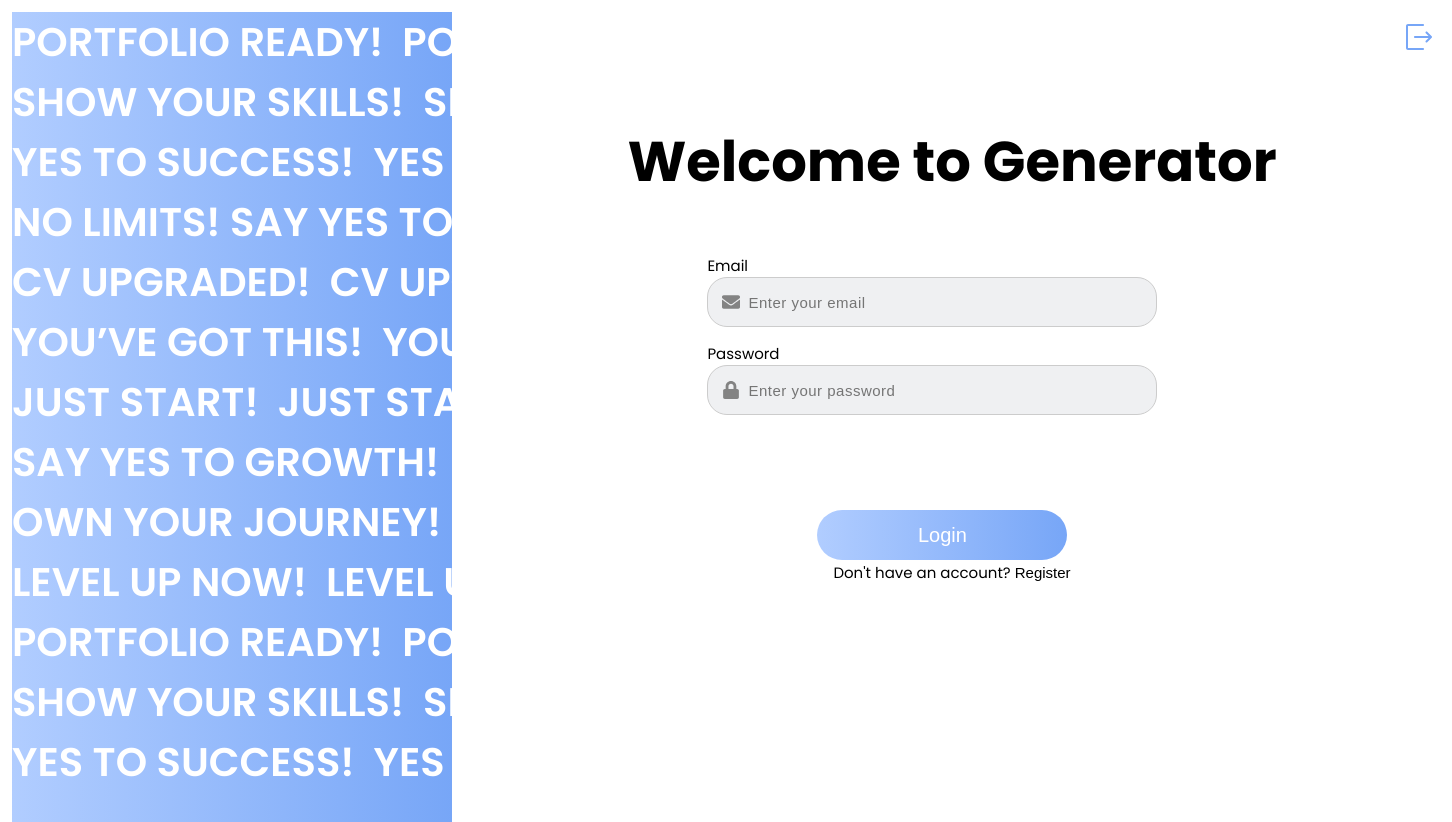
Test case: Компонент Login › Отображение ошибки при отсутствии ответа от сервера
// Заполняем поля и отправляем форму
Type "test@example.com" into the field with placeholder "Enter your email".
click(932, 302); type("test@example.com")  # box [707,277,1157,327]
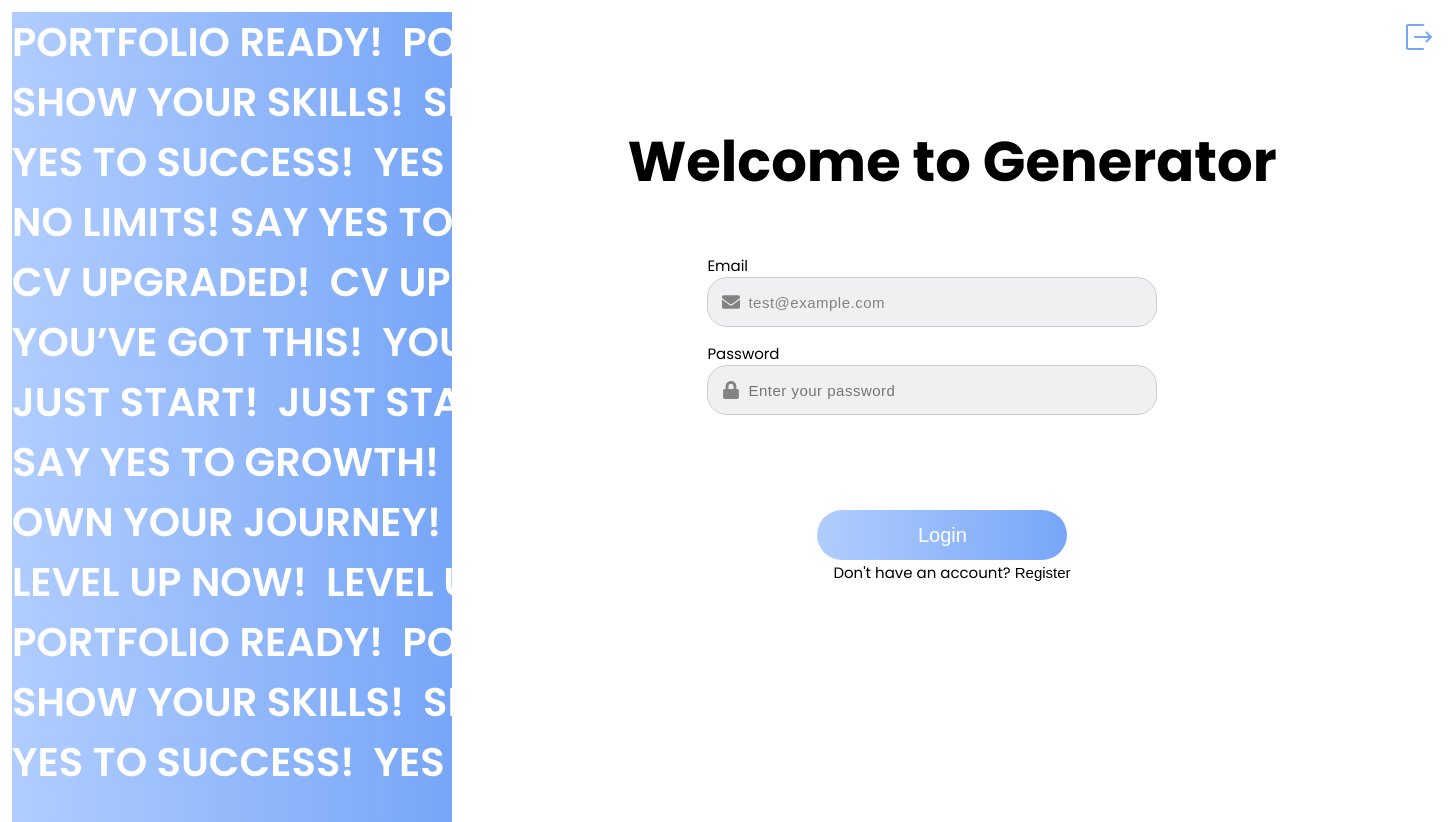
Type "password123" into the password field with placeholder "Enter your password".
click(932, 390); type("password123")  # box [707,365,1157,415]
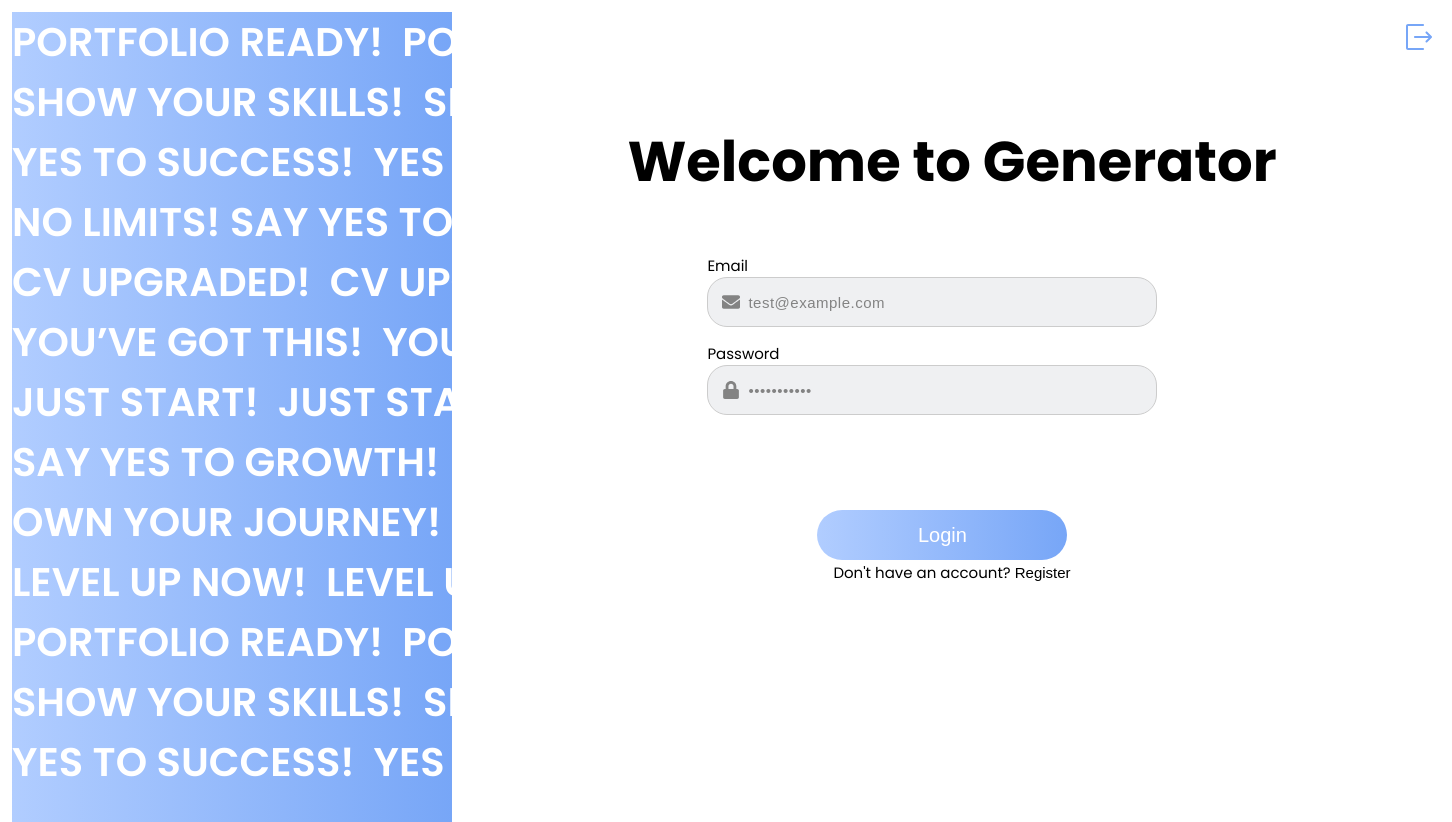
Click the button "Login".
click(942, 535)  # box [817,510,1067,560]
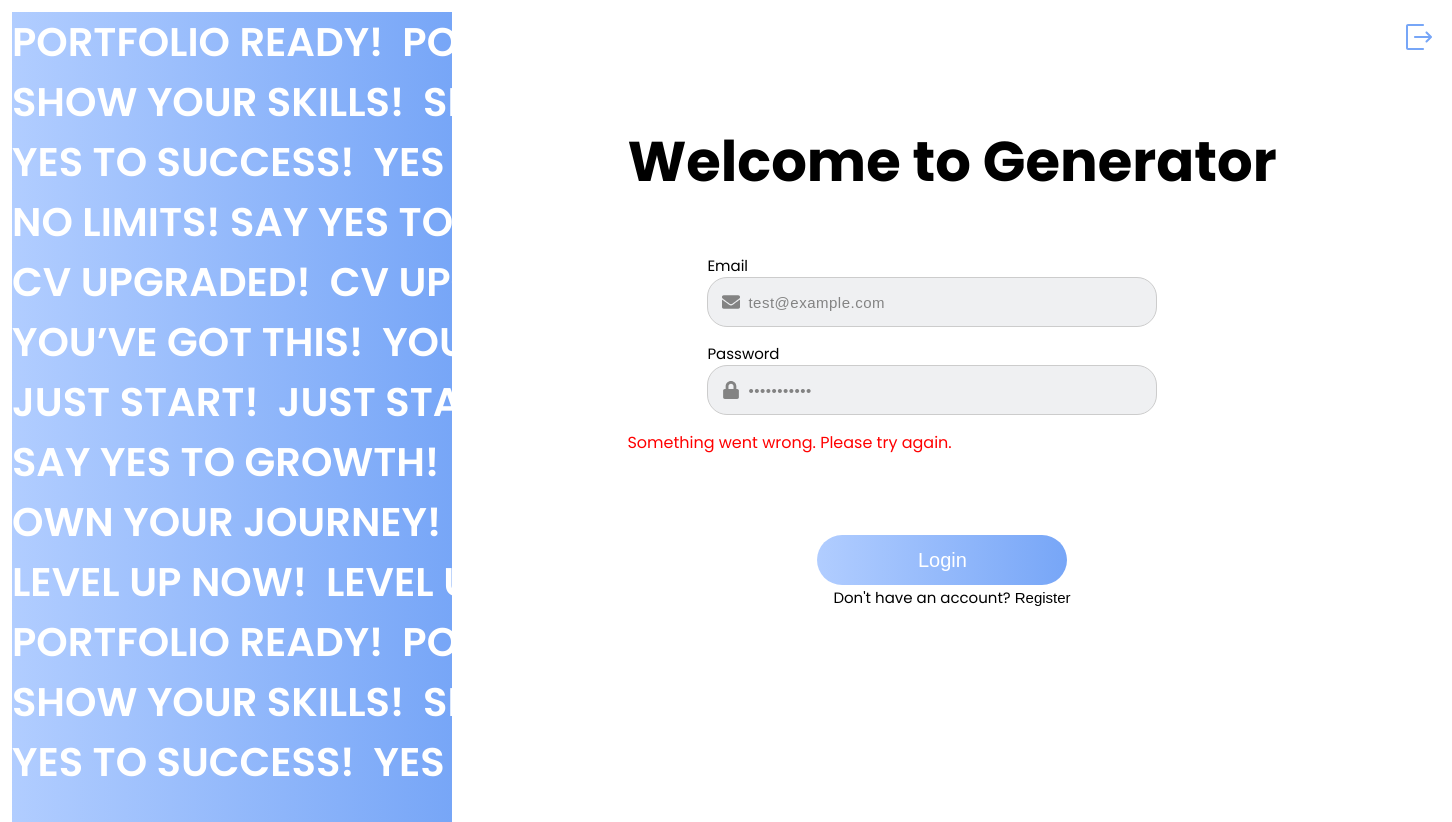
Result: the text "Something went wrong. Please try again." is shown at [627,431,952,454]
